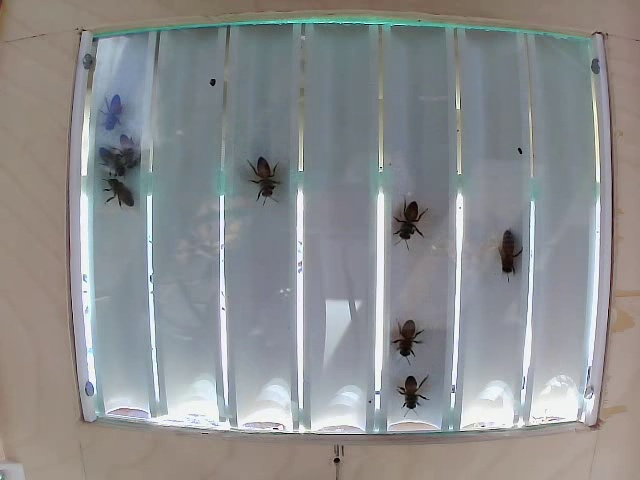bee: (93, 90, 140, 133), (243, 154, 284, 202), (391, 307, 424, 360), (385, 370, 427, 409), (492, 218, 520, 275), (96, 175, 137, 210), (397, 197, 423, 248), (97, 139, 126, 177), (117, 128, 147, 164)
